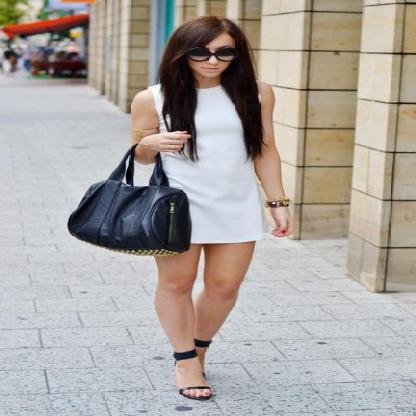bag: (68, 144, 190, 254)
dress: (160, 85, 277, 247)
shoe: (174, 341, 215, 402)
sunglass: (184, 42, 211, 68)
